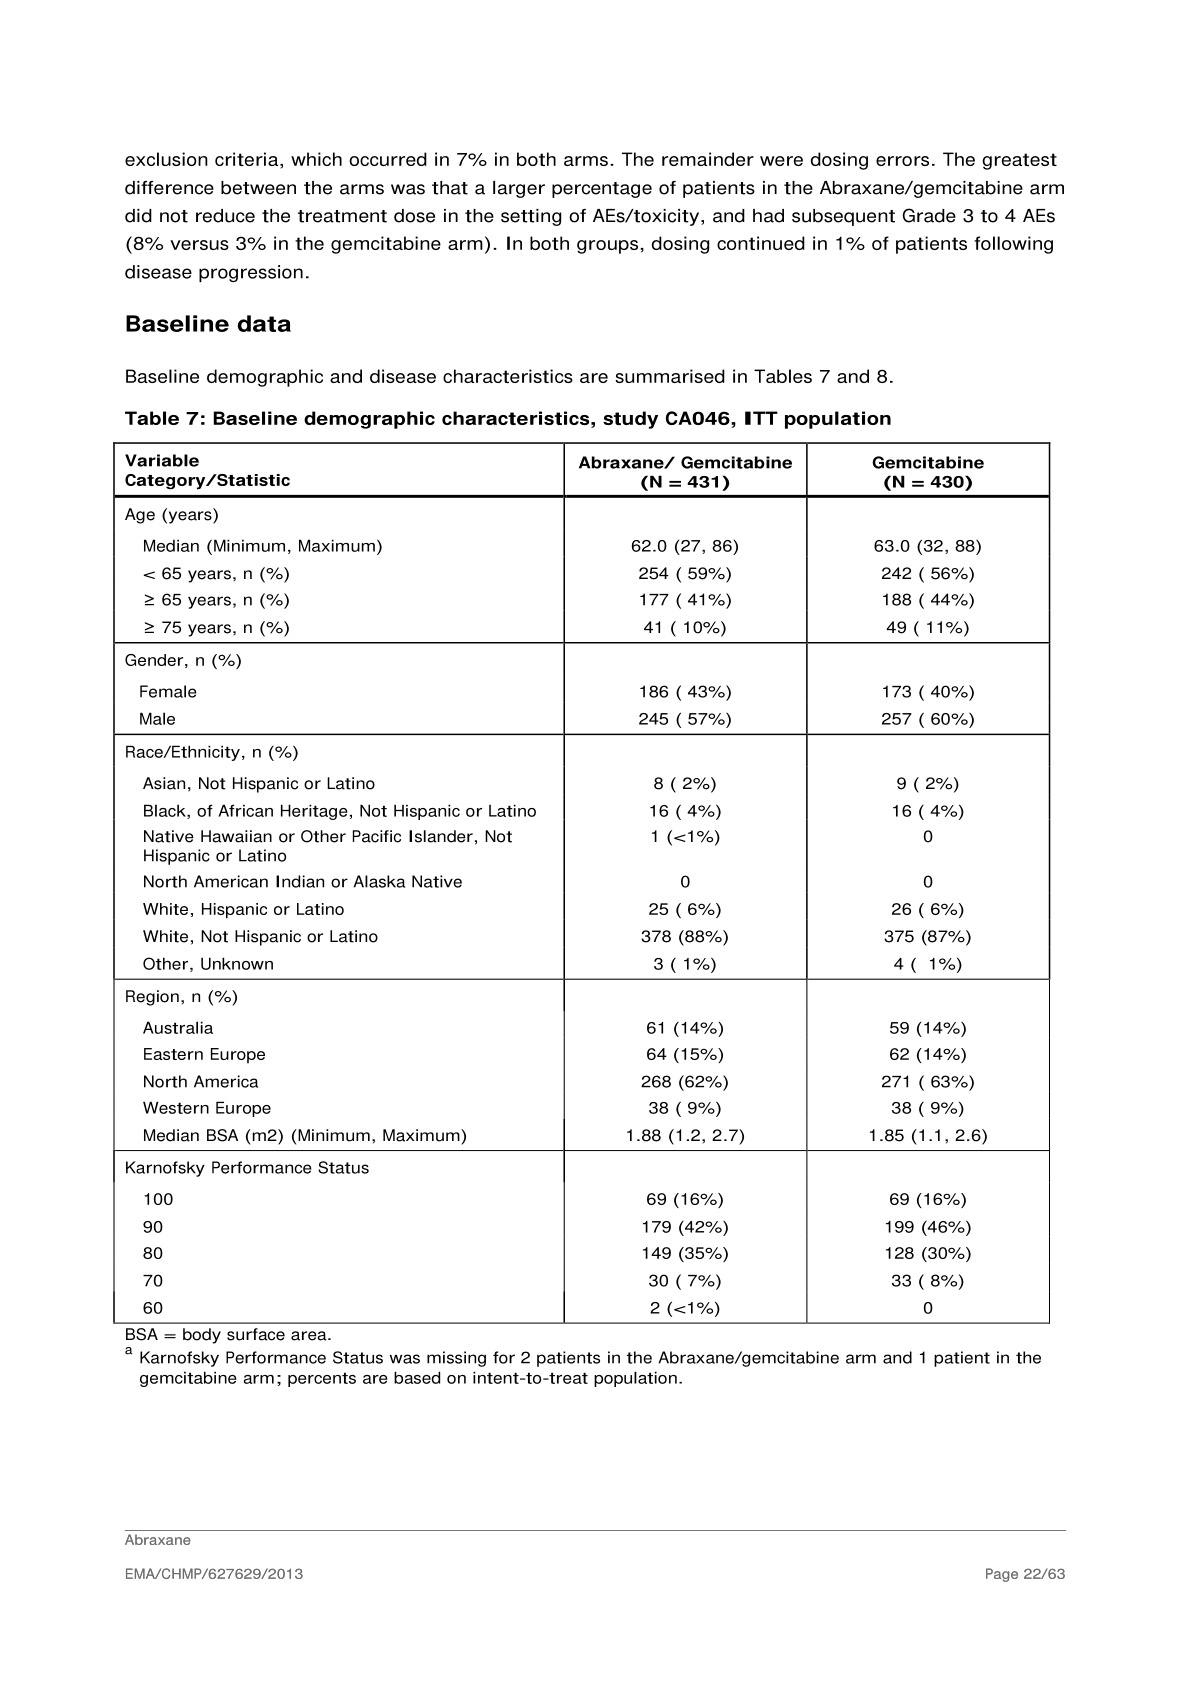partial_lined_merged_cells: (111, 441, 1051, 1325)
